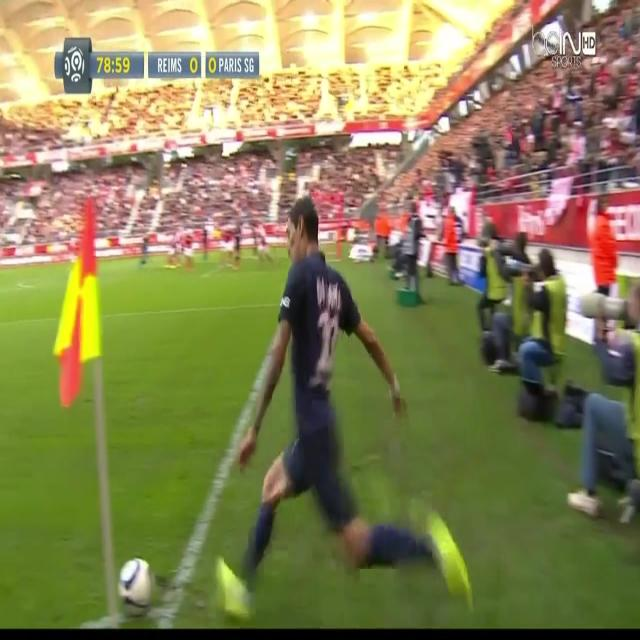Ball: (115, 554, 154, 620)
Player: (208, 190, 473, 623)
